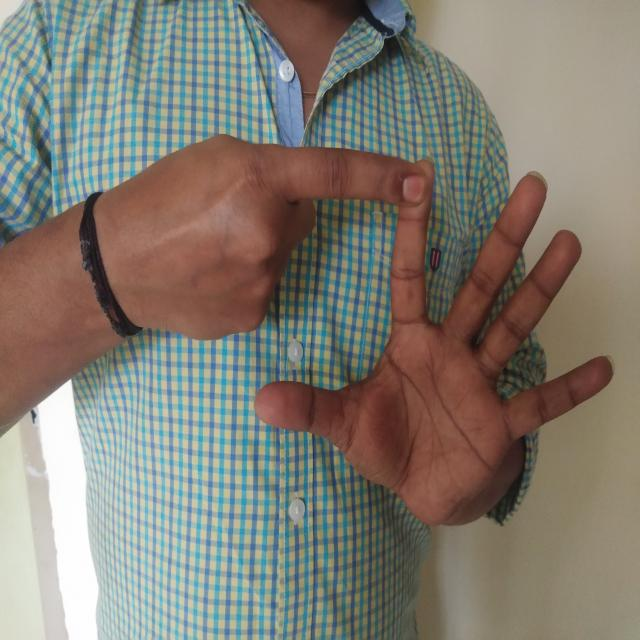E: (142, 98, 627, 548)
